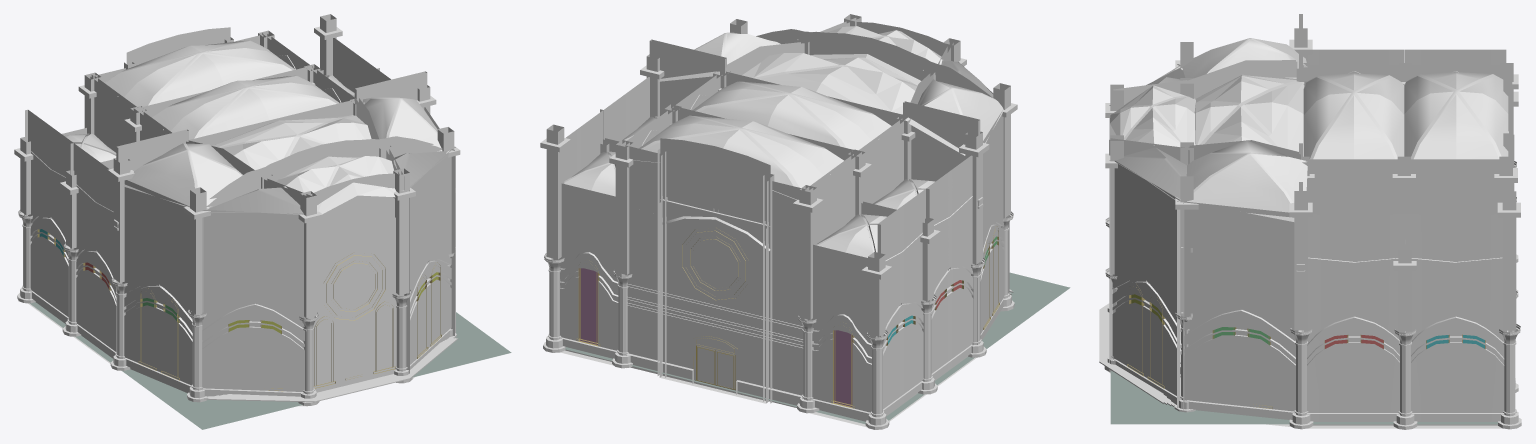
The model's file is Stage_02.fbx.
3 renders of one model, left to right at view 1: azimuth 30°, elevation 25°; view 2: azimuth 150°, elevation 25°; view 3: azimuth 270°, elevation 25°, orthographic. The views are drawn at different scales.
Visible parts, largest first — view 1: BgMD_Wall_02_01 (×2), BgMD_Wall_02_05, BgMD_wall_06, BgMD_Wall_04, BgMD_Wall_04_04, BgMD_celling_01_01, BgMD_celling_01_02, BgMD_Ground, BgMD_celling_02_01, BgMD_celling_03_01, BgMD_Wall_05, BgMD_Pillar_11 (×2) (+20 smaller); view 2: wall_5, BgMD_Wall_03_01 (×2), BgMD_wall_05_01 (×2), BgMD_Wall_04_04 (×2), BgMD_Wall_04, BgMD_Wall_07, BgMD_celling_01_02, BgMD_Beam_02 (×2), BgMD_celling_01_01, BgMD_Pillar_17 (×2), BgMD_celling_02_01, BgMD_Wall_02_01 (+24 smaller); view 3: BgMD_Wall_02_05, BgMD_Wall_04_04 (×2), BgMD_Wall_04_05, BgMD_Wall_02_01, BgMD_celling_01_01, BgMD_celling_01_02, BgMD_celling_02_01, BgMD_celling_03_02, BgMD_Beam_01 (×2), BgMD_Beam_05 (×2), BgMD_Pillar_17 (×2), BgMD_Ground (+14 smaller).
Part boxes in pixels (<box>): BgMD_Wall_02_01 (×2): <box>119,149,454,393</box>; BgMD_Wall_02_05: <box>202,210,308,406</box>; BgMD_wall_06: <box>306,217,406,394</box>; BgMD_Wall_04: <box>70,143,119,363</box>; BgMD_Wall_04_04: <box>25,109,73,328</box>; BgMD_celling_01_01: <box>105,40,294,106</box>; BgMD_celling_01_02: <box>152,75,339,139</box>; BgMD_Ground: <box>30,302,511,429</box>; BgMD_celling_02_01: <box>212,115,371,169</box>; BgMD_celling_03_01: <box>123,143,242,207</box>; BgMD_Wall_05: <box>191,136,455,314</box>; BgMD_Pillar_11 (×2): <box>183,127,460,402</box>; wall_5: <box>659,202,768,403</box>; BgMD_Wall_03_01 (×2): <box>551,183,877,427</box>; BgMD_wall_05_01 (×2): <box>623,145,806,407</box>; BgMD_Wall_04_04 (×2): <box>603,77,929,421</box>; BgMD_Wall_04: <box>926,155,977,385</box>; BgMD_Wall_07: <box>660,138,770,250</box>; BgMD_celling_01_02: <box>692,81,891,150</box>; BgMD_Beam_02 (×2): <box>649,39,983,208</box>; BgMD_celling_01_01: <box>634,115,843,199</box>; BgMD_Pillar_17 (×2): <box>540,124,989,357</box>; BgMD_celling_02_01: <box>742,53,917,114</box>; BgMD_Wall_02_01: <box>978,109,1009,340</box>; BgMD_Wall_02_05: <box>1183,201,1298,427</box>; BgMD_Wall_04_04 (×2): <box>1304,49,1506,428</box>; BgMD_Wall_04_05: <box>1405,214,1506,428</box>; BgMD_Wall_02_01: <box>1109,160,1181,407</box>; BgMD_celling_01_01: <box>1404,72,1508,159</box>; BgMD_celling_01_02: <box>1303,73,1404,159</box>; BgMD_celling_02_01: <box>1194,74,1303,156</box>; BgMD_celling_03_02: <box>1186,140,1307,221</box>; BgMD_Beam_01 (×2): <box>1303,65,1508,214</box>; BgMD_Beam_05 (×2): <box>1301,65,1508,214</box>; BgMD_Pillar_17 (×2): <box>1289,28,1521,429</box>; BgMD_Ground: <box>1110,371,1497,424</box>.
Size of the model in its own units: 5208 by 3526 by 5317.
